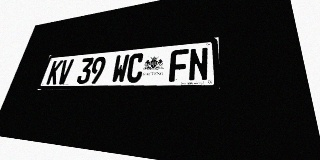3: (76, 57, 94, 84)
9: (88, 56, 107, 84)
C: (125, 53, 145, 83)
F: (169, 49, 189, 82)
K: (46, 60, 63, 85)
N: (188, 47, 208, 81)
V: (56, 59, 74, 84)
W: (111, 54, 130, 83)
